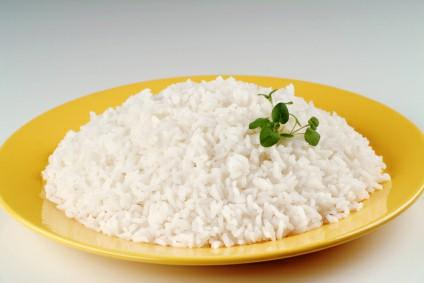WhiteRice: (40, 75, 391, 249)
